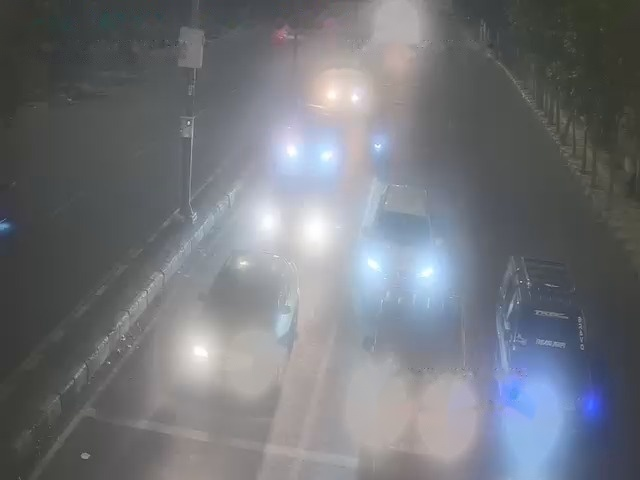Mobil: (495, 247, 599, 433), (372, 292, 468, 440), (201, 243, 290, 388), (363, 175, 442, 302), (282, 103, 338, 177), (328, 55, 367, 112)
Motor: (369, 135, 386, 159)
